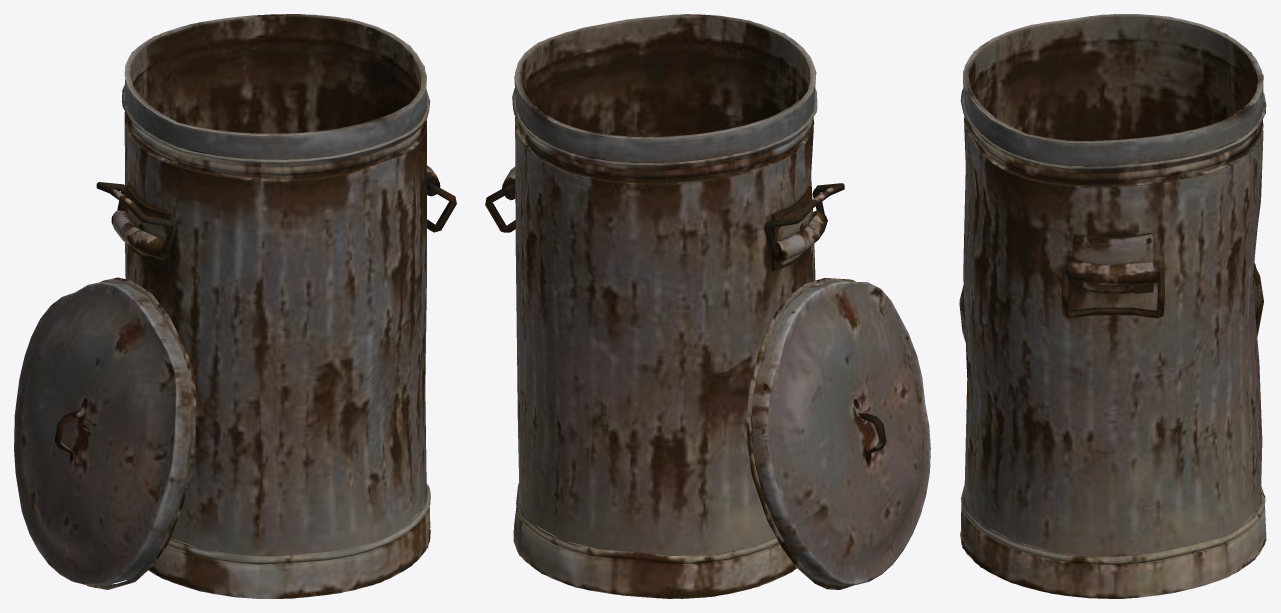
File: trash_bin_rusty.glb
3 views of the same model, side by side, from view 1: azimuth 30°, elevation 25°; view 2: azimuth 150°, elevation 25°; view 3: azimuth 270°, elevation 25° (orthographic).
Visible parts, largest first — view 1: metal_trash_can_rust; view 2: metal_trash_can_rust; view 3: metal_trash_can_rust.
Part boxes in pixels (x1,y1,x2,y2): metal_trash_can_rust: (14,14,456,598); metal_trash_can_rust: (485,14,930,598); metal_trash_can_rust: (959,14,1266,598).
Bounding box in the file's own units: 0.7742 × 0.9063 × 0.5501.
2 materials, 2 textured.
